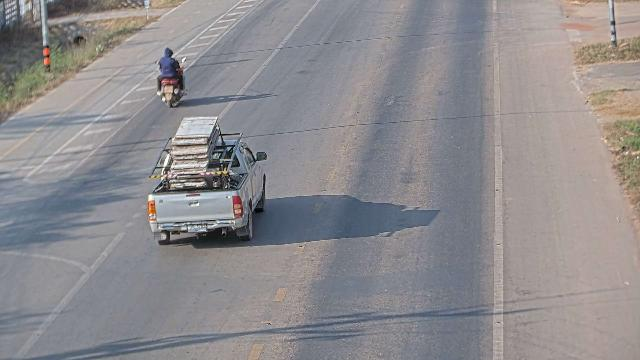motorcycle: (156, 56, 188, 107)
pickup-truck: (146, 115, 268, 245)
